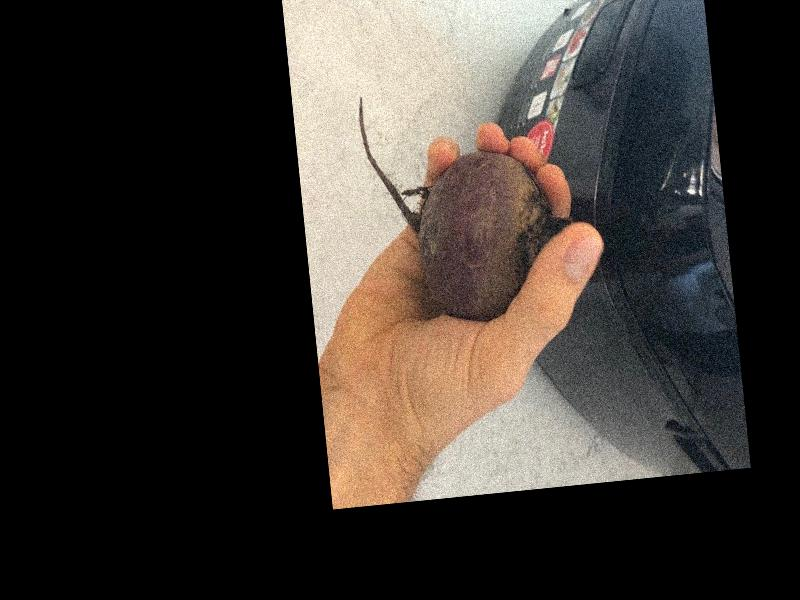Beet: (357, 77, 579, 330)
